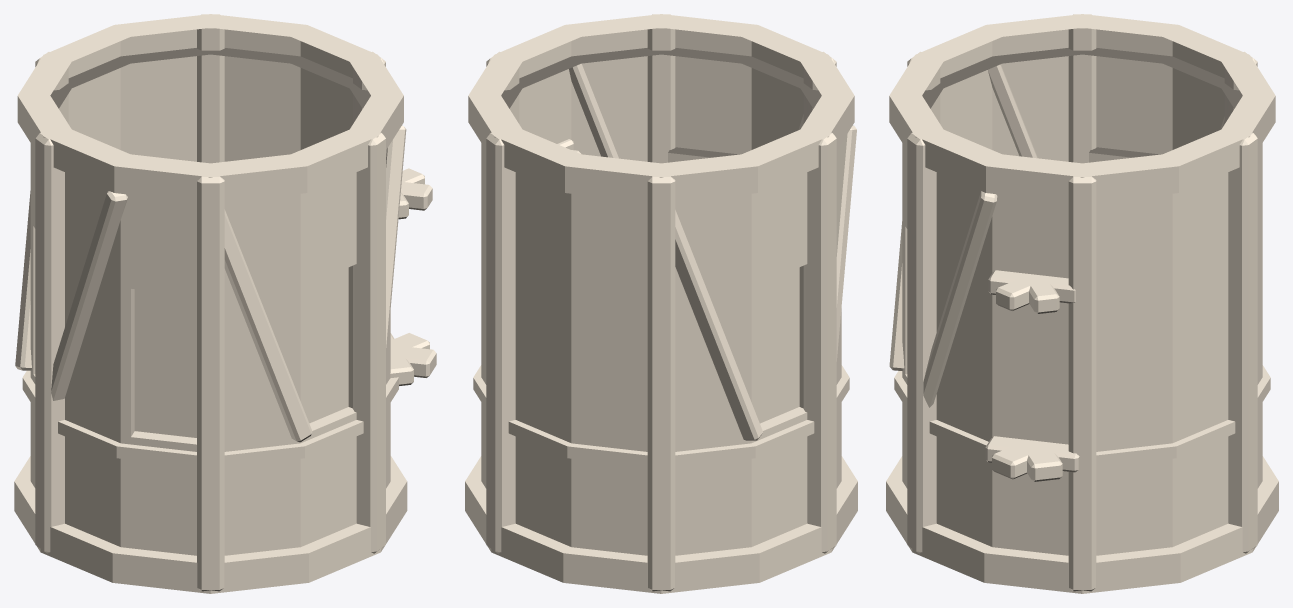
File: SM_VK_Turret_Seg.fbx
The picture shows the model from 3 angles, left to right: view 1: azimuth 30°, elevation 25°; view 2: azimuth 150°, elevation 25°; view 3: azimuth 270°, elevation 25°; orthographic projection.
Visible parts, largest first — view 1: SM_VK_Turret_Seg.001; view 2: SM_VK_Turret_Seg.001; view 3: SM_VK_Turret_Seg.001.
Boxes of the visible parts, <box> form: SM_VK_Turret_Seg.001: <box>14,14,436,593</box>; SM_VK_Turret_Seg.001: <box>465,14,857,593</box>; SM_VK_Turret_Seg.001: <box>886,14,1278,593</box>.
Bounding box in the file's own units: 2.58 × 2.8 × 2.4.
